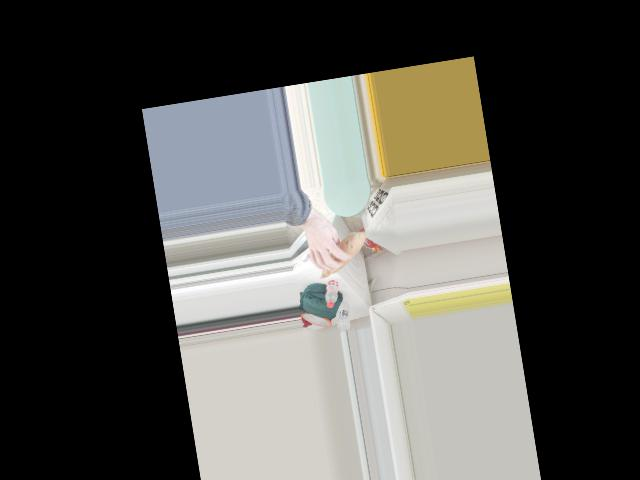sweet_potato: (309, 232, 367, 278)
